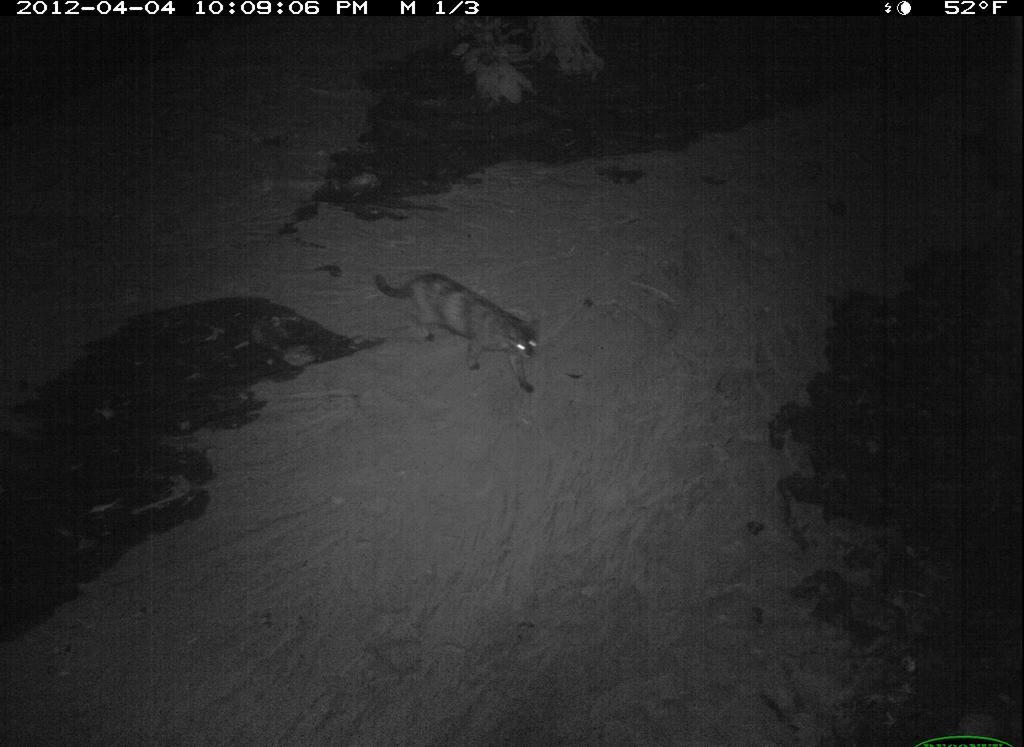cat: (358, 254, 571, 411)
